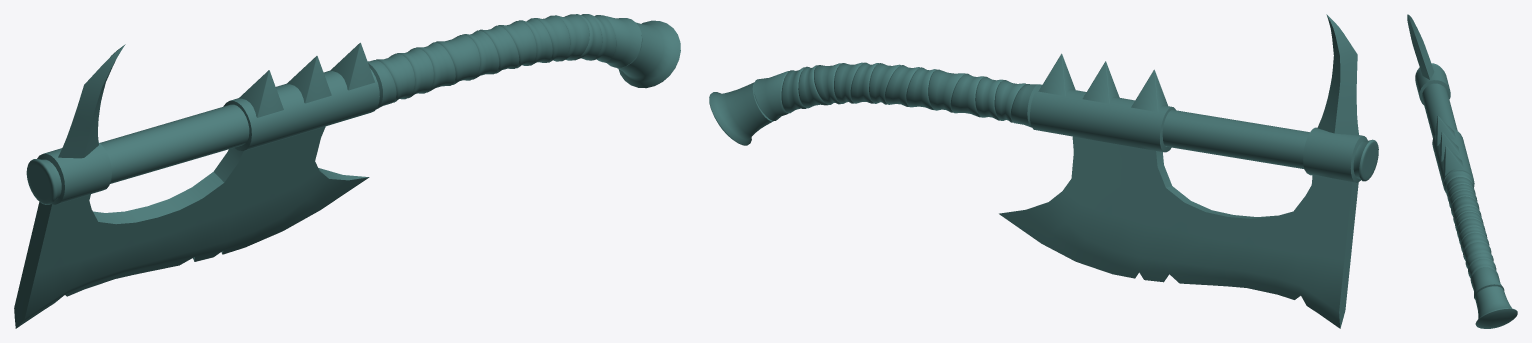
The model's file is ChaosAxeR01.fbx.
3 renders of one model, left to right at view 1: azimuth 30°, elevation 25°; view 2: azimuth 150°, elevation 25°; view 3: azimuth 270°, elevation 25°, orthographic. The views are drawn at different scales.
Parts seen in each view (by area): view 1: ChaosAxeLP001; view 2: ChaosAxeLP001; view 3: ChaosAxeLP001.
Part boxes in pixels (x1=…): ChaosAxeLP001: x1=14, y1=14, x2=680, y2=328; ChaosAxeLP001: x1=709, y1=14, x2=1378, y2=328; ChaosAxeLP001: x1=1407, y1=14, x2=1517, y2=328.
Size of the model in its own units: 1611 by 680 by 369.
